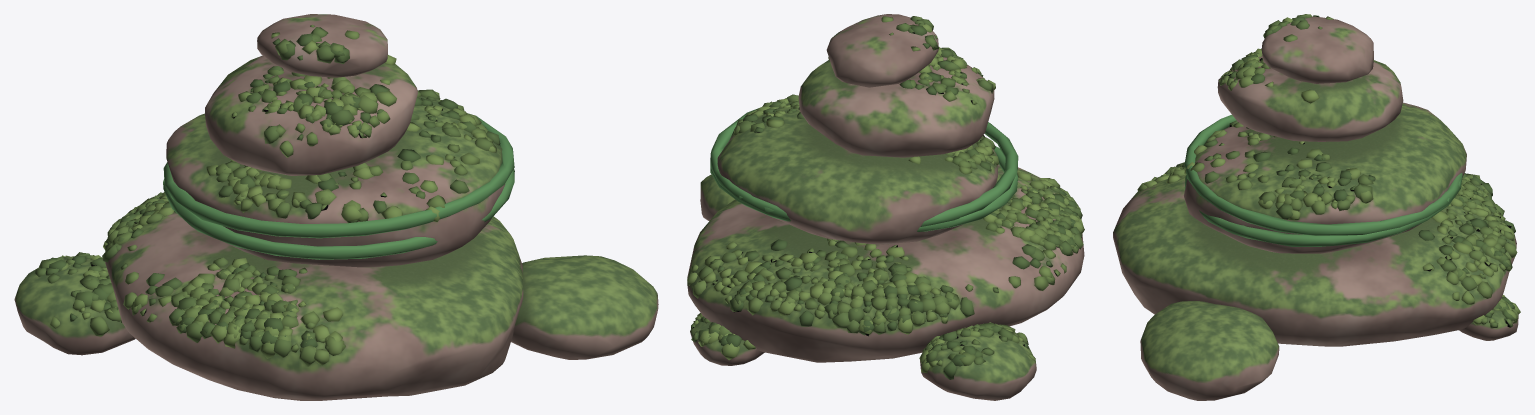
The model's file is RackBase_Cairn.fbx.
3 renders of one model, left to right at view 1: azimuth 30°, elevation 25°; view 2: azimuth 150°, elevation 25°; view 3: azimuth 270°, elevation 25°, orthographic. The views are drawn at different scales.
Visible parts, largest first — view 1: RackBase_Cairn; view 2: RackBase_Cairn; view 3: RackBase_Cairn.
Part boxes in pixels (x1=…): RackBase_Cairn: x1=14, y1=14, x2=658, y2=400; RackBase_Cairn: x1=687, y1=14, x2=1084, y2=400; RackBase_Cairn: x1=1113, y1=14, x2=1520, y2=400.
Size of the model in its own units: 1.1 by 0.696 by 0.9188.
